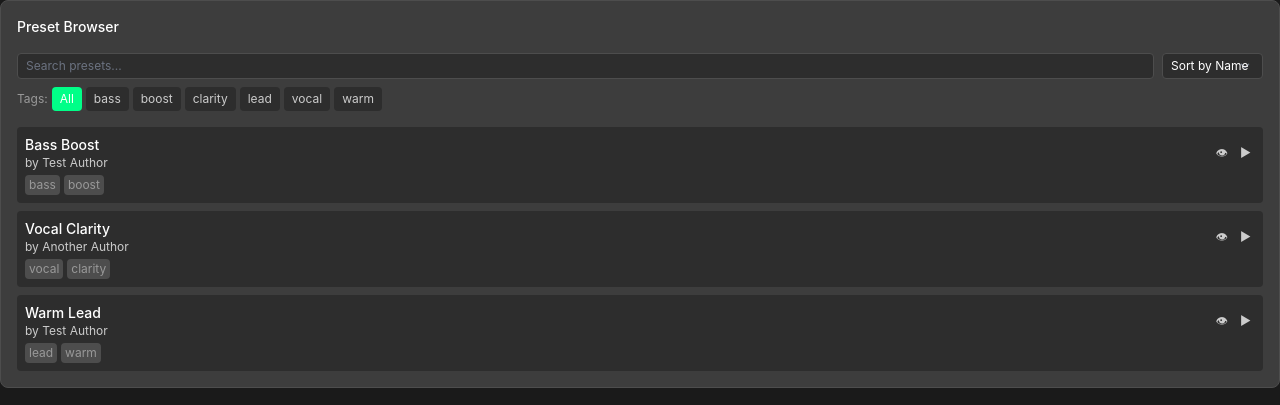
it: PluginPresetBrowser › should filter presets by search term
Type "bass" into the field with placeholder "Search presets...". click: {"x": 586, "y": 66}
box: x1=17 y1=53 x2=1154 y2=79
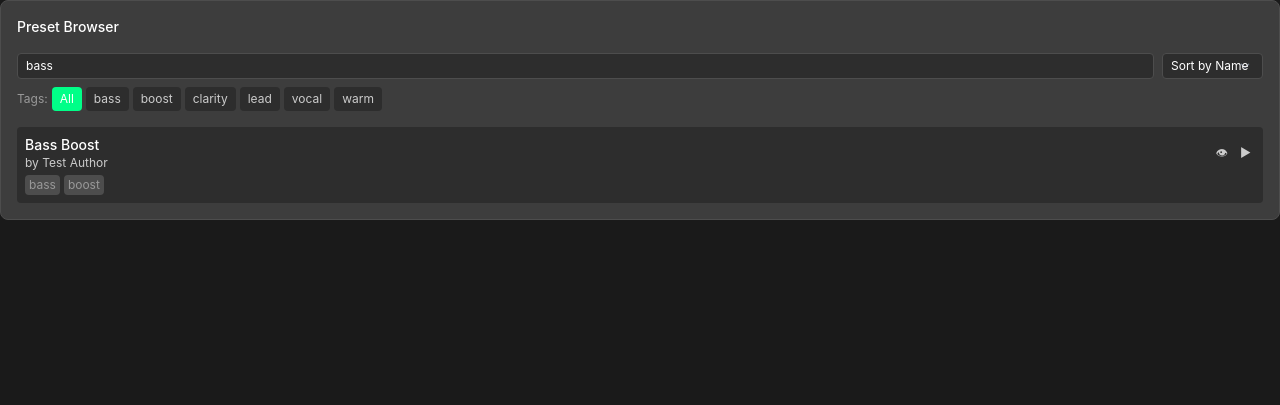
Expected: the text "Bass Boost" is shown, x1=25 y1=135 x2=99 y2=155
Now the text "Warm Lead" is not shown
Now the text "Vocal Clarity" is not shown
